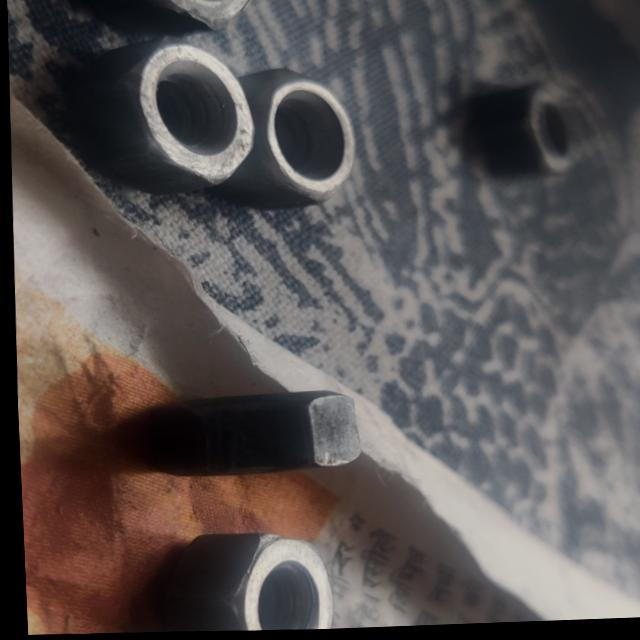disinfected nut: (67, 40, 251, 195), (212, 71, 352, 212), (143, 393, 354, 478), (156, 534, 323, 633), (468, 88, 575, 181), (89, 0, 248, 38)
